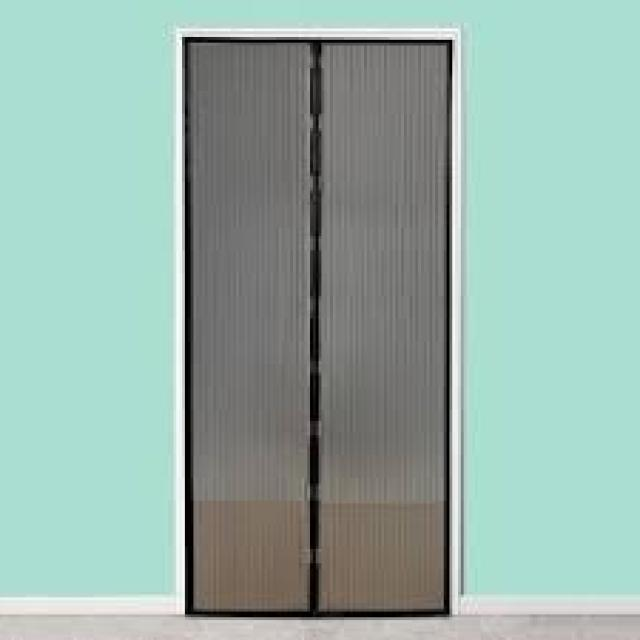door: (182, 28, 455, 618)
